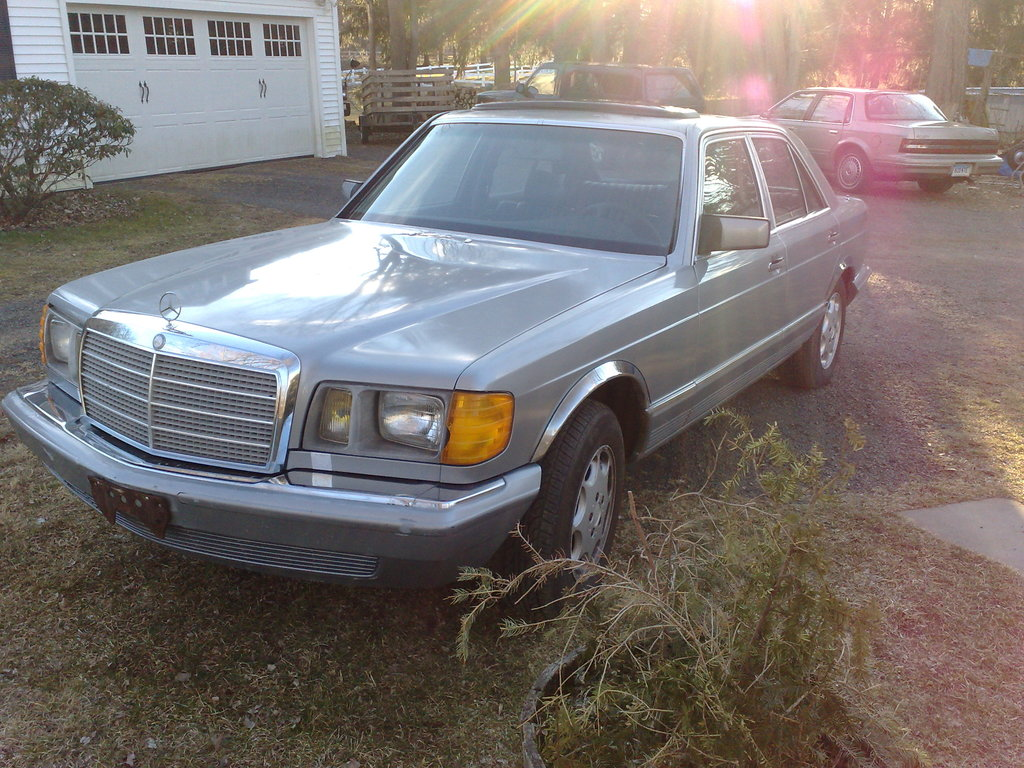Car: (0, 100, 872, 623), (741, 86, 1004, 198), (473, 60, 706, 125)
